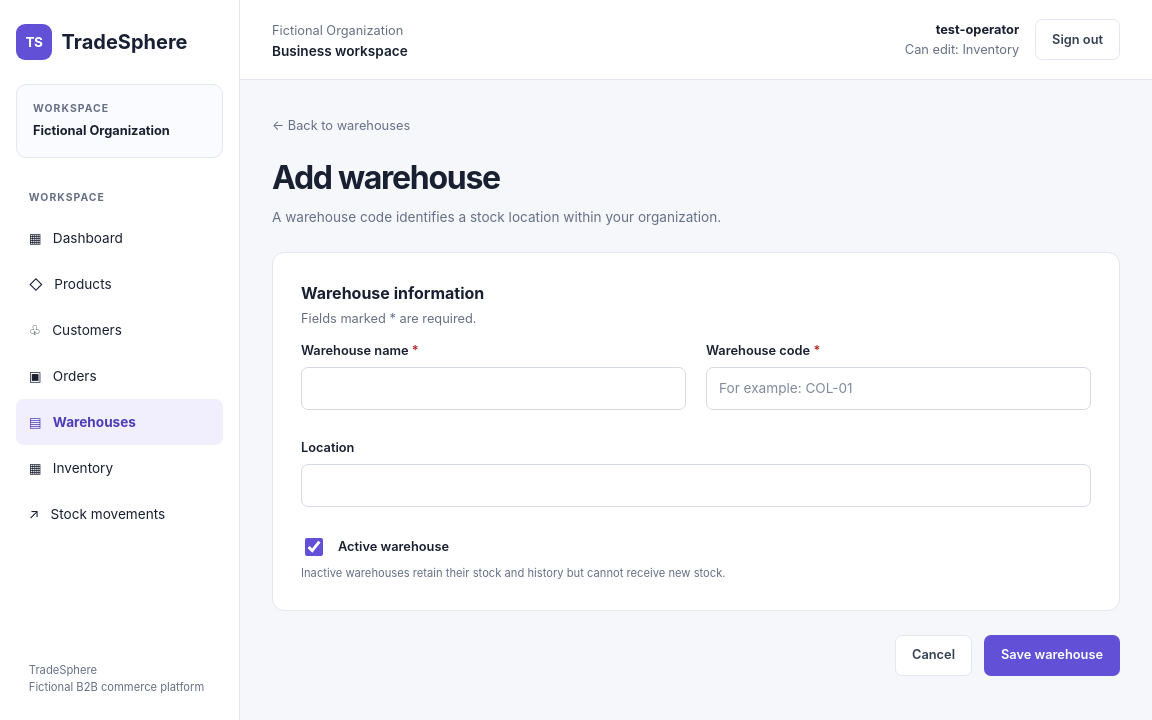
it: warehouse and inventory interactions › creates a warehouse and displays success
In the field labelled "Warehouse name *": (494, 388) [301, 367, 686, 410], type "Colombo test warehouse"
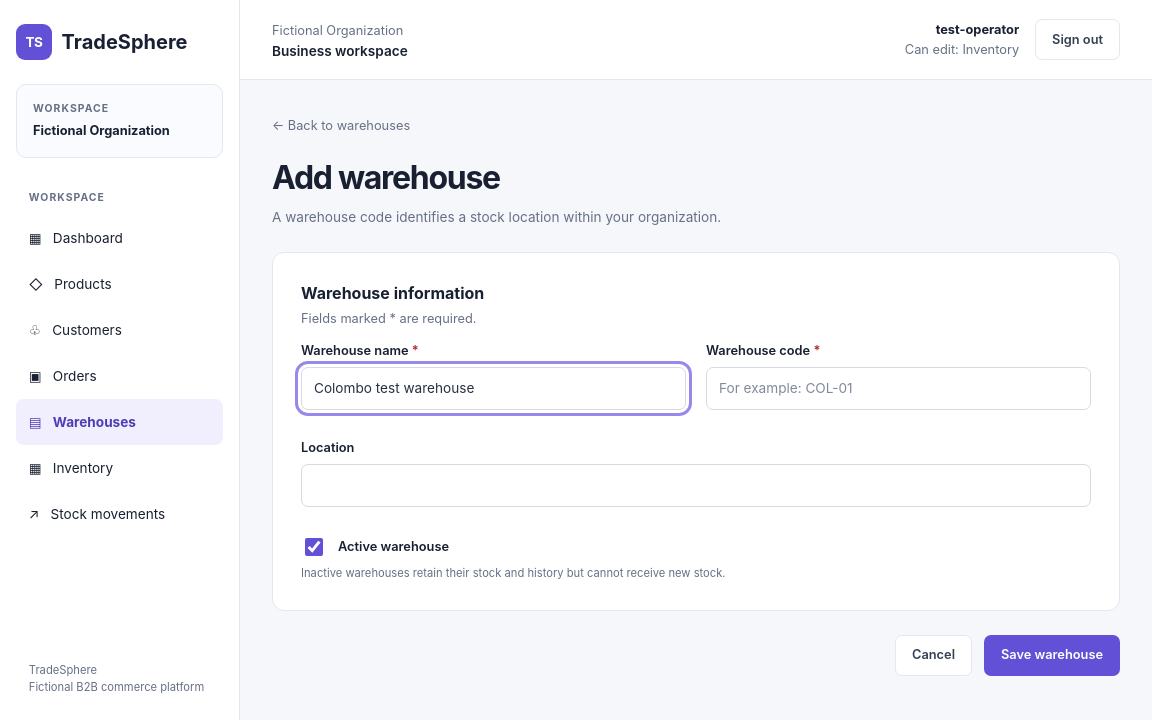
In the field labelled "Warehouse code *": (898, 388) [706, 367, 1091, 410], type "col-01"
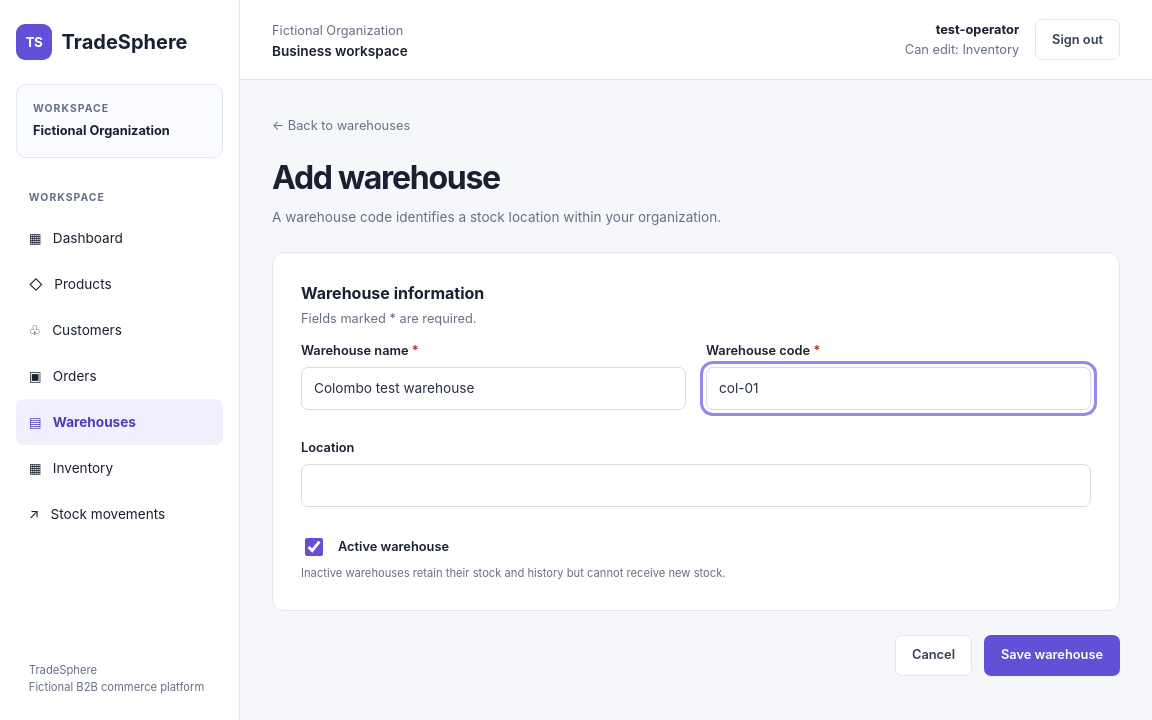
Click the button "Save warehouse": click(1052, 655) [984, 635, 1120, 676]
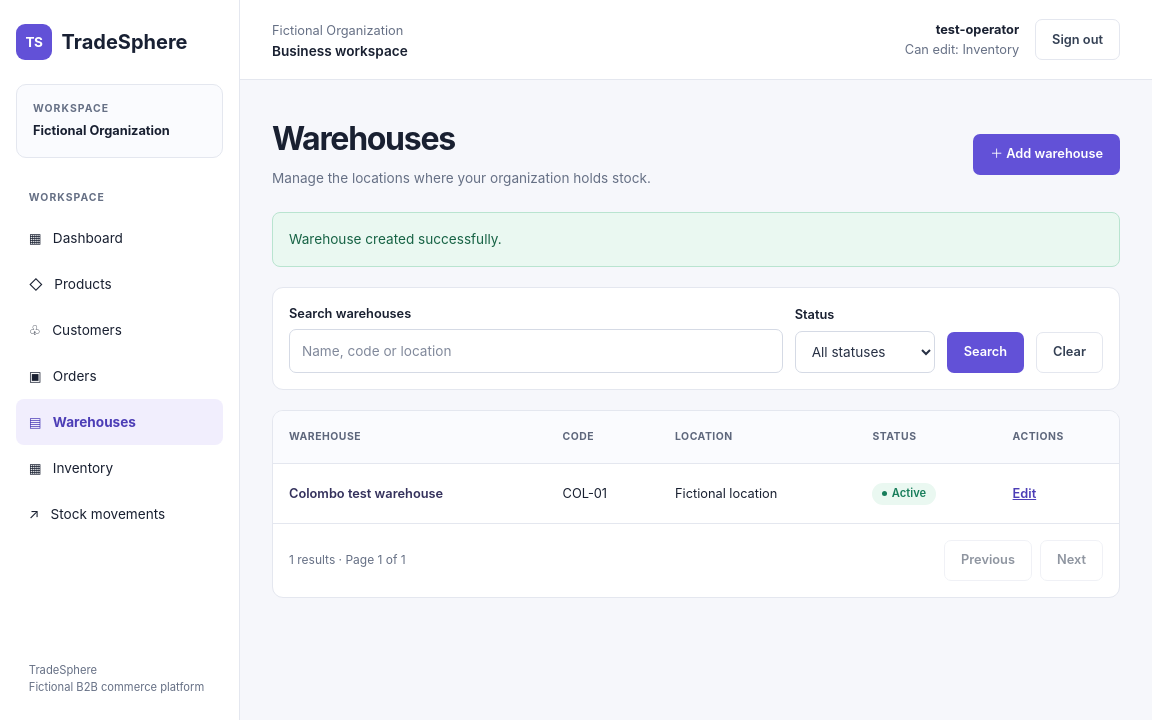
Now the text "Warehouse created successfully." is shown, box [272, 212, 1120, 267]
